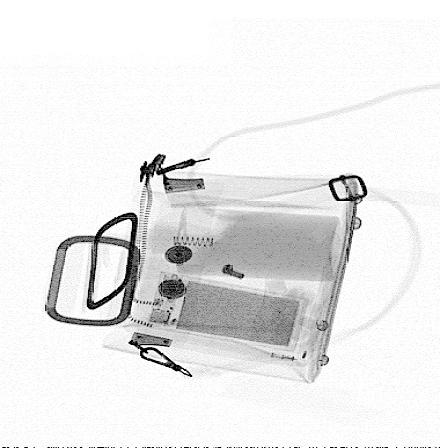Powerbank: (143, 271, 310, 353)
